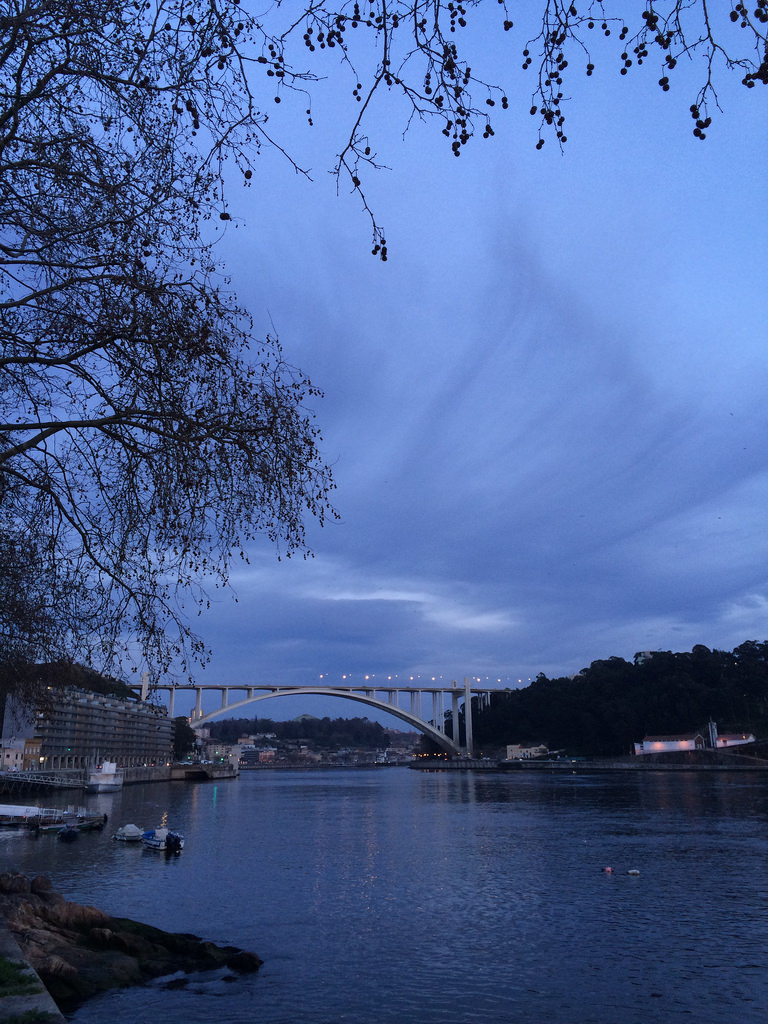arrabida: (126, 674, 493, 764)
